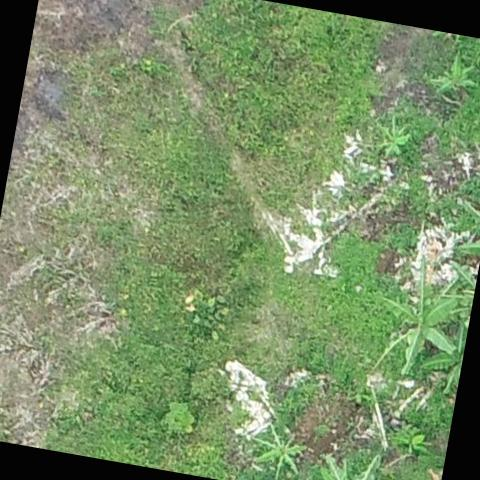Banana-plant: (376, 261, 474, 378), (238, 413, 315, 480), (355, 102, 422, 170), (417, 49, 480, 110)
